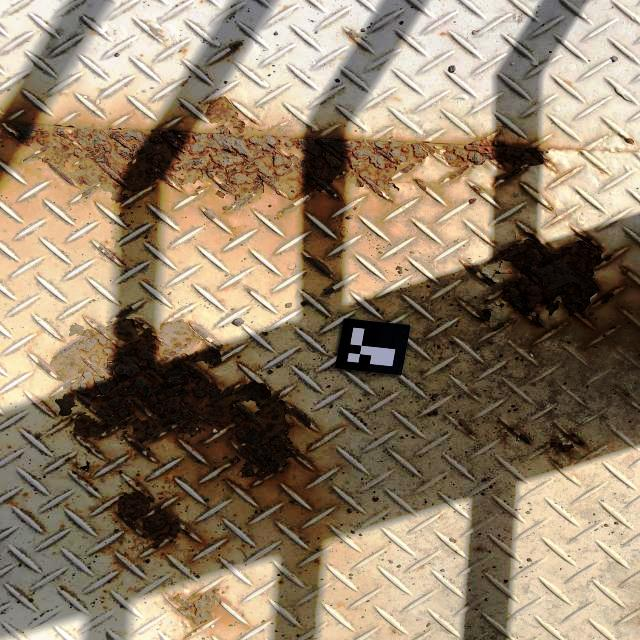Corrosion: (0, 97, 551, 213), (37, 304, 319, 488), (458, 225, 613, 328), (97, 478, 196, 549), (164, 584, 224, 639), (455, 298, 493, 323), (304, 256, 333, 276), (34, 395, 58, 418), (504, 425, 531, 445), (411, 176, 438, 195), (549, 438, 576, 453), (96, 244, 118, 261), (565, 432, 587, 447), (489, 321, 510, 333), (277, 204, 297, 216), (598, 291, 614, 306), (457, 422, 474, 436), (75, 459, 90, 472), (471, 184, 488, 194), (346, 30, 362, 40), (203, 210, 217, 221), (229, 42, 242, 51), (324, 287, 336, 296), (622, 138, 637, 145), (493, 303, 506, 310), (467, 198, 477, 205), (246, 287, 254, 294), (548, 205, 556, 211)
